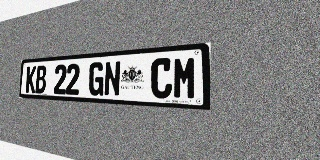2: (66, 63, 80, 95), (54, 64, 67, 94)
B: (35, 65, 47, 94)
C: (150, 57, 172, 99)
G: (88, 62, 104, 96)
K: (25, 66, 36, 93)
M: (173, 56, 197, 100)
N: (104, 61, 121, 97)
